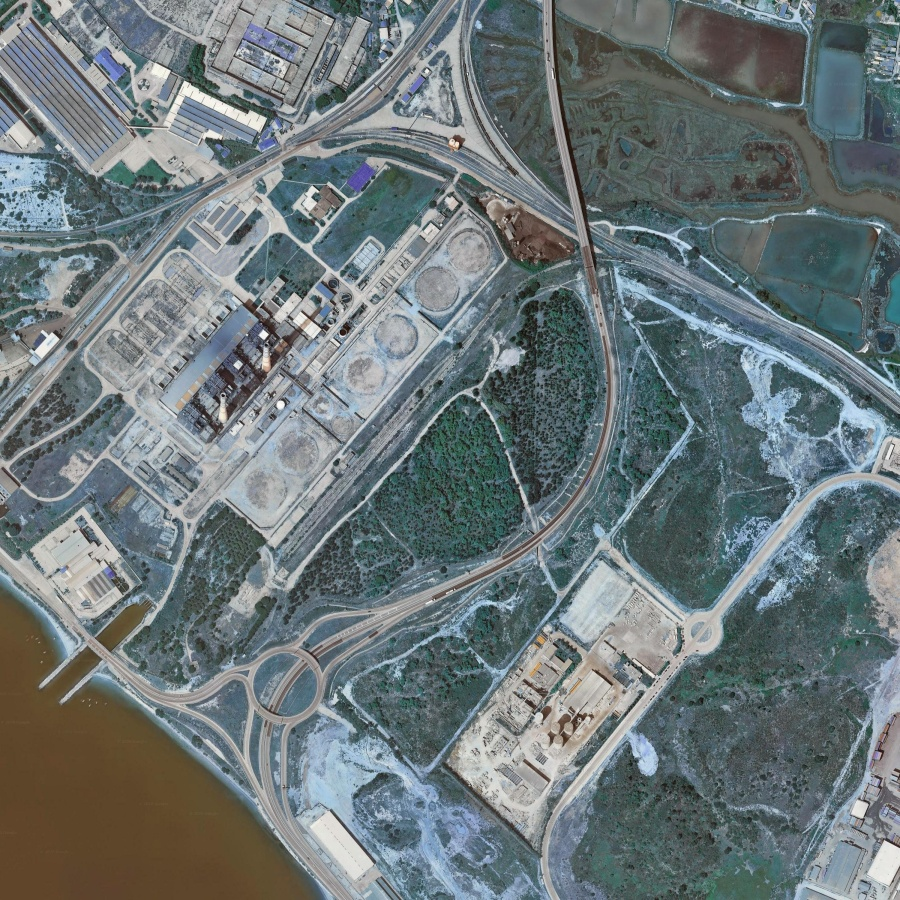PowerPlant: (119, 176, 494, 516)
